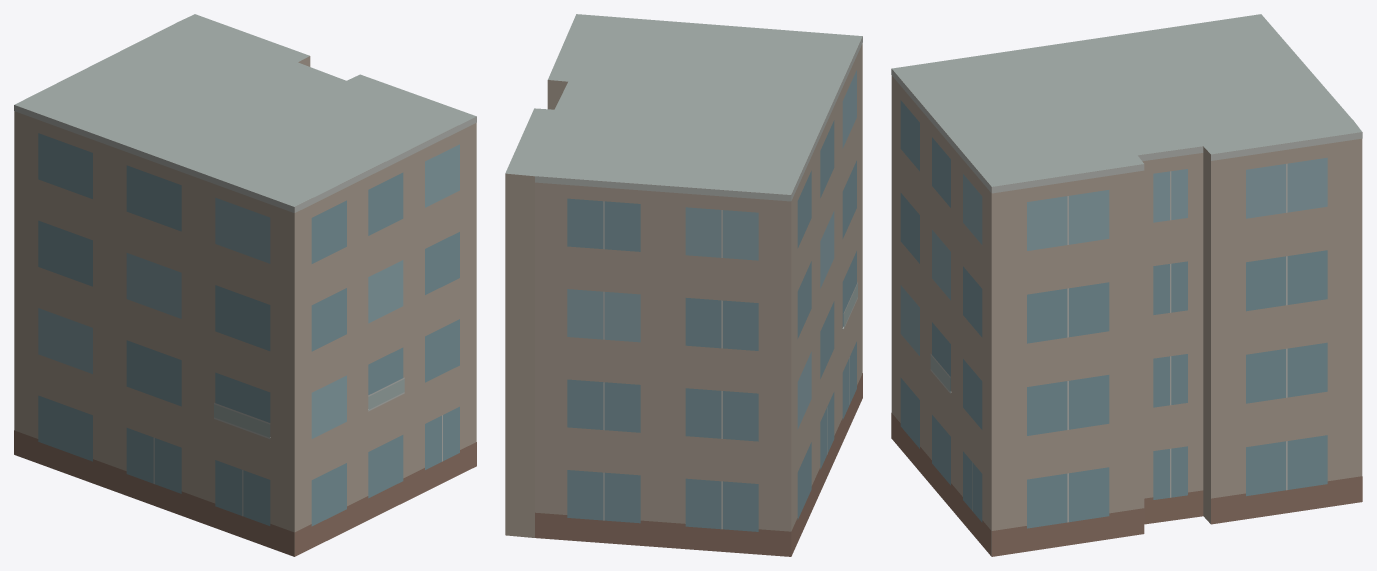
Rendered from survey-upis-32839626.glb.
3 renders of one model, left to right at view 1: azimuth 30°, elevation 25°; view 2: azimuth 150°, elevation 25°; view 3: azimuth 270°, elevation 25°, orthographic. The views are drawn at different scales.
Visible parts, largest first — view 1: survey-upis-32839626.tmp; view 2: survey-upis-32839626.tmp; view 3: survey-upis-32839626.tmp.
Boxes of the visible parts, <box> form: survey-upis-32839626.tmp: <box>14,14,476,556</box>; survey-upis-32839626.tmp: <box>505,14,862,556</box>; survey-upis-32839626.tmp: <box>891,14,1362,556</box>.
Size of the model in its own units: 13.85 by 13.8 by 15.93.
